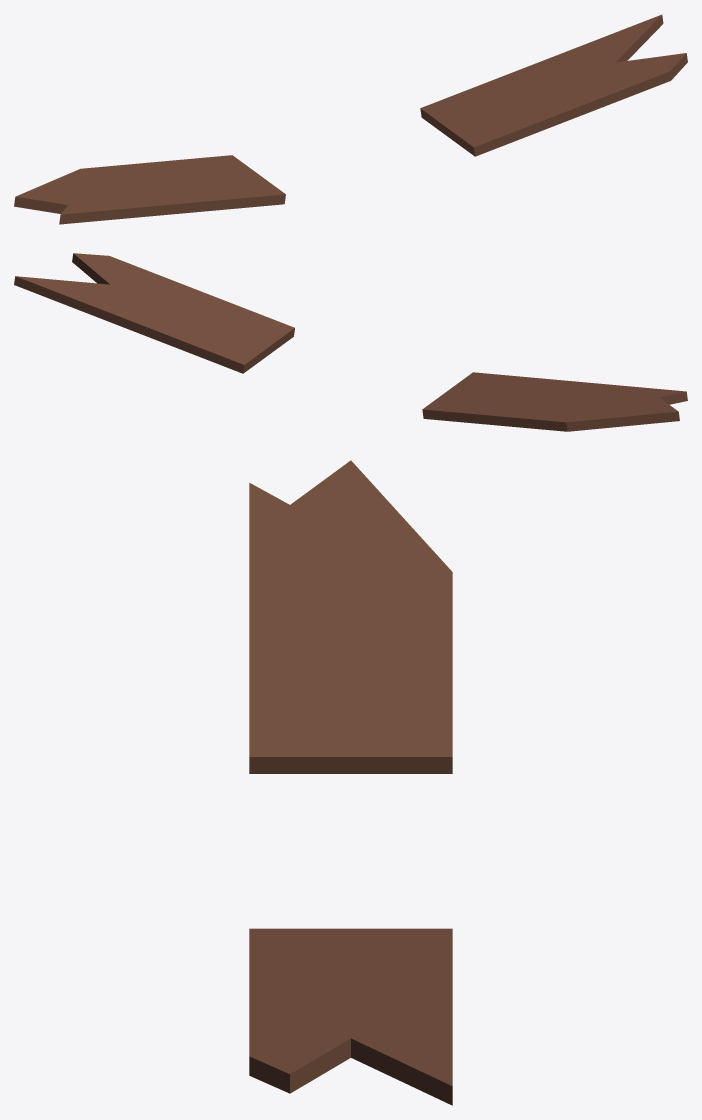
The model's file is Wooden_003.fbx.
3 renders of one model, top to bottom at view 1: azimuth 30°, elevation 25°; view 2: azimuth 150°, elevation 25°; view 3: azimuth 270°, elevation 25°, orthographic. The views are drawn at different scales.
Parts seen in each view (by area): view 1: Wooden_003; view 2: Wooden_003; view 3: Wooden_003.
Part boxes in pixels (<box>): Wooden_003: <box>14,14,687,224</box>; Wooden_003: <box>14,253,687,431</box>; Wooden_003: <box>249,460,452,1105</box>.
Size of the model in its own units: 72.84 by 4.86 by 10.
